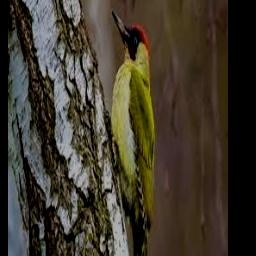Woodpecker: (103, 10, 156, 256)
